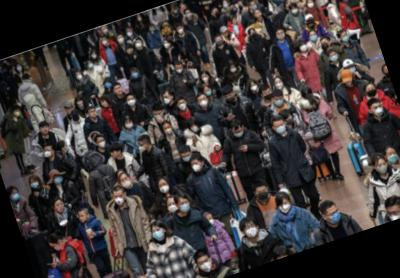mask_weared_incorrect: (119, 175, 134, 190), (215, 36, 225, 47)
with_mask: (197, 257, 216, 276), (327, 207, 345, 226), (243, 222, 261, 240), (151, 226, 167, 244), (255, 187, 272, 203), (278, 199, 294, 216), (375, 160, 391, 176), (178, 199, 193, 215), (386, 150, 400, 167), (113, 192, 128, 207), (274, 121, 289, 136), (51, 173, 66, 187), (372, 103, 386, 118), (387, 206, 400, 222), (42, 145, 56, 159), (190, 160, 204, 174), (158, 181, 171, 195), (167, 200, 180, 214), (366, 85, 379, 99), (9, 190, 22, 203), (233, 127, 246, 140), (51, 242, 64, 254), (163, 124, 175, 137), (198, 96, 210, 109), (263, 88, 275, 101), (274, 96, 287, 108), (284, 114, 296, 127), (274, 78, 286, 90), (62, 142, 73, 155), (181, 152, 194, 163), (29, 179, 41, 190), (153, 110, 165, 121), (137, 142, 148, 154), (178, 100, 189, 112), (225, 93, 237, 104), (347, 64, 358, 76), (329, 52, 340, 64), (341, 32, 352, 44), (100, 36, 111, 47), (97, 138, 108, 149), (127, 97, 138, 108), (190, 123, 201, 134), (277, 30, 288, 41), (321, 40, 332, 51), (135, 39, 145, 50), (163, 94, 173, 105), (175, 65, 186, 75), (250, 83, 261, 93), (310, 32, 320, 43), (208, 215, 217, 227), (13, 108, 23, 118), (76, 72, 86, 82), (163, 40, 173, 50), (201, 74, 211, 84), (204, 88, 214, 98), (306, 16, 316, 26), (124, 121, 135, 130), (131, 70, 140, 80), (300, 43, 309, 53), (101, 25, 110, 34), (72, 113, 81, 122), (104, 80, 113, 89), (251, 2, 260, 11), (250, 30, 259, 39), (230, 64, 239, 73), (291, 7, 300, 16), (384, 68, 391, 79), (91, 51, 99, 60), (88, 60, 96, 69), (117, 36, 126, 44), (177, 26, 185, 35), (186, 11, 194, 20), (214, 9, 222, 18), (308, 0, 316, 9), (16, 64, 24, 72), (77, 99, 85, 107), (127, 29, 135, 37), (238, 2, 246, 10), (345, 79, 354, 86), (288, 0, 295, 8), (173, 7, 180, 14), (151, 25, 157, 33), (223, 1, 229, 8), (333, 24, 339, 31), (184, 53, 190, 59), (235, 3, 240, 10), (138, 15, 143, 21), (164, 25, 170, 29)
without_mask: (53, 201, 67, 215), (78, 211, 90, 224), (40, 124, 51, 136), (114, 85, 125, 96), (88, 109, 98, 119), (110, 149, 119, 159), (100, 100, 109, 110), (65, 106, 74, 114), (222, 30, 231, 38), (256, 11, 264, 19), (126, 47, 133, 55), (233, 18, 239, 25)
